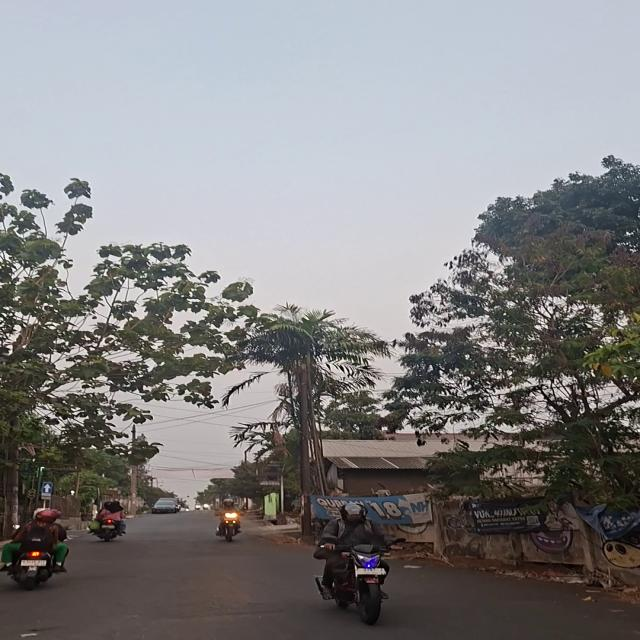WithHelmet: (316, 503, 406, 601), (1, 510, 69, 575), (213, 498, 245, 537), (92, 501, 128, 535)
